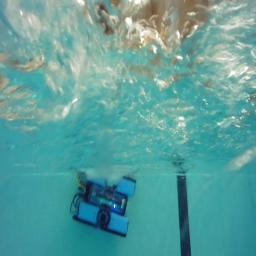front: (73, 172, 137, 236)
